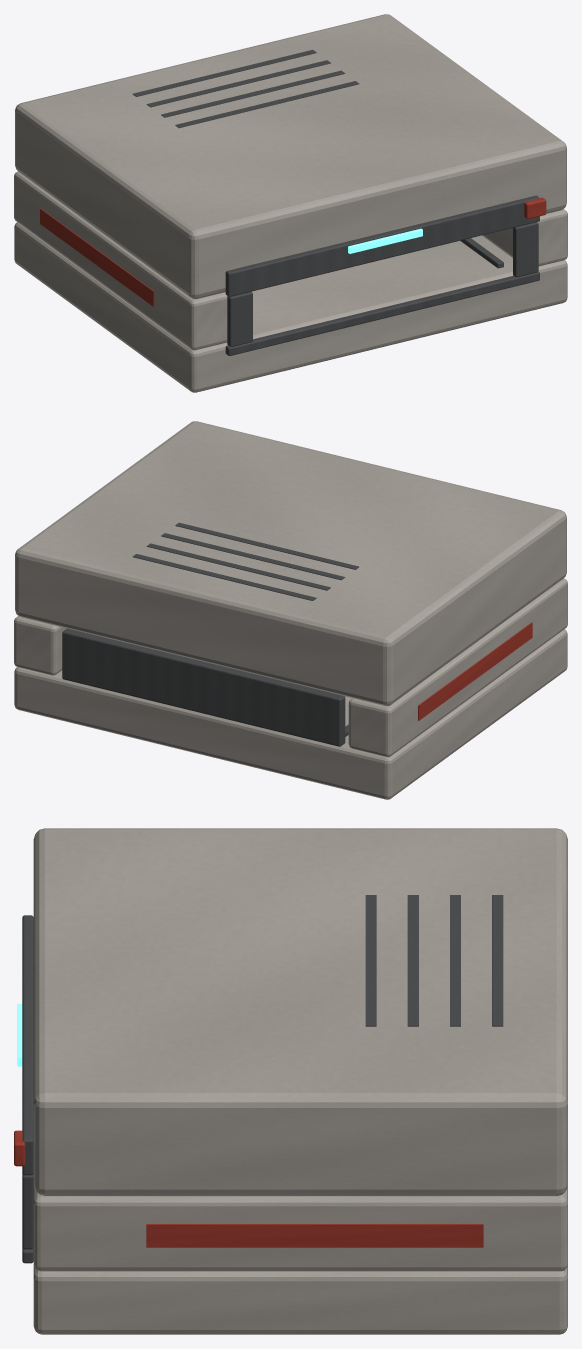
File: cartridge_reader.glb
3 renders of one model, top to bottom at view 1: azimuth 30°, elevation 25°; view 2: azimuth 150°, elevation 25°; view 3: azimuth 270°, elevation 25°, orthographic. The views are drawn at different scales.
Parts seen in each view (by area): view 1: reader_top, reader_bottom, reader_side, face_upper, face_lower, reader_side_02, side_red_band, face_side, face_side_02, top_vent_02, top_vent, top_vent_03 (+2 smaller); view 2: reader_top, reader_bottom, slot_back, reader_side, reader_side_02, side_red_band, top_vent, top_vent_02, top_vent_04, top_vent_03; view 3: reader_top, reader_bottom, reader_side_02, side_red_band_02, face_upper, top_vent, top_vent_02, top_vent_04, top_vent_03, face_side_02.
Boxes of the visible parts, x1,y1,x2,y2 form: reader_top: (15,14,566,298); reader_bottom: (14,222,567,392); reader_side: (14,171,227,350); face_upper: (225,195,539,296); face_lower: (225,271,539,355); reader_side_02: (482,209,567,266); side_red_band: (40,208,154,306); face_side: (227,292,252,346); face_side_02: (513,222,538,277); top_vent_02: (161,70,345,117); top_vent: (175,81,359,128); top_vent_03: (146,60,330,107); reader_top: (15,421,566,705); reader_bottom: (14,629,567,799); slot_back: (62,628,345,746); reader_side: (348,578,567,757); reader_side_02: (14,616,66,675); side_red_band: (418,622,532,720); top_vent: (175,522,358,569); top_vent_02: (161,533,345,580); top_vent_04: (132,554,316,600); top_vent_03: (146,543,330,590); reader_top: (33,828,567,1195); reader_bottom: (33,1265,567,1334); reader_side_02: (33,1185,567,1271); side_red_band_02: (146,1224,483,1247); face_upper: (22,915,33,1175); top_vent: (365,895,376,1026); top_vent_02: (407,895,418,1026); top_vent_04: (492,895,503,1026); top_vent_03: (450,895,460,1026); face_side_02: (22,1173,33,1249).
Size of the model in its own units: 0.231 by 0.0944 by 0.197.
4 materials, 3 textured.
